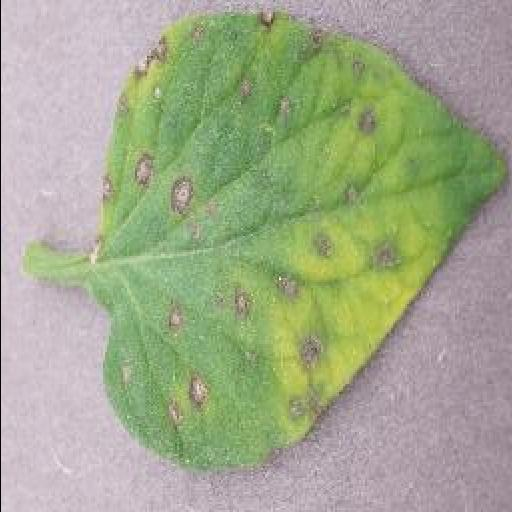disease_tomato: (100, 18, 504, 474)
